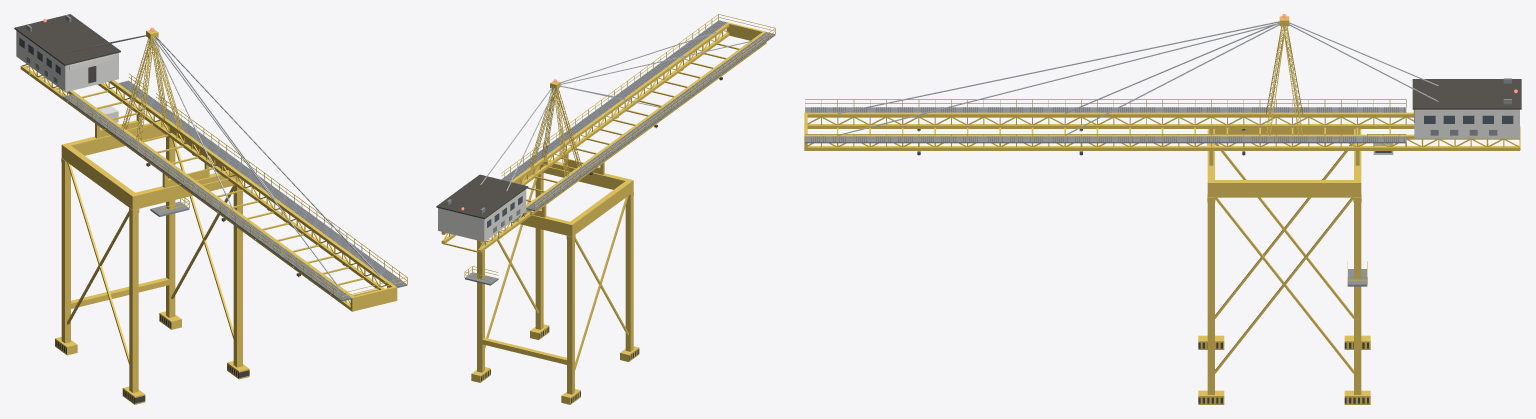
File: sts_crane.glb
3 renders of one model, left to right at view 1: azimuth 30°, elevation 25°; view 2: azimuth 150°, elevation 25°; view 3: azimuth 270°, elevation 25°, orthographic. The views are drawn at different scales.
Visible parts, largest first — view 1: wf_sts_crane_mesh; view 2: wf_sts_crane_mesh; view 3: wf_sts_crane_mesh.
Boxes of the visible parts, left/top/right/bottom form: wf_sts_crane_mesh: left=14, top=14, right=407, bottom=404; wf_sts_crane_mesh: left=436, top=14, right=775, bottom=404; wf_sts_crane_mesh: left=804, top=14, right=1521, bottom=404.
Size of the model in its own units: 19.05 by 49.01 by 88.3.
